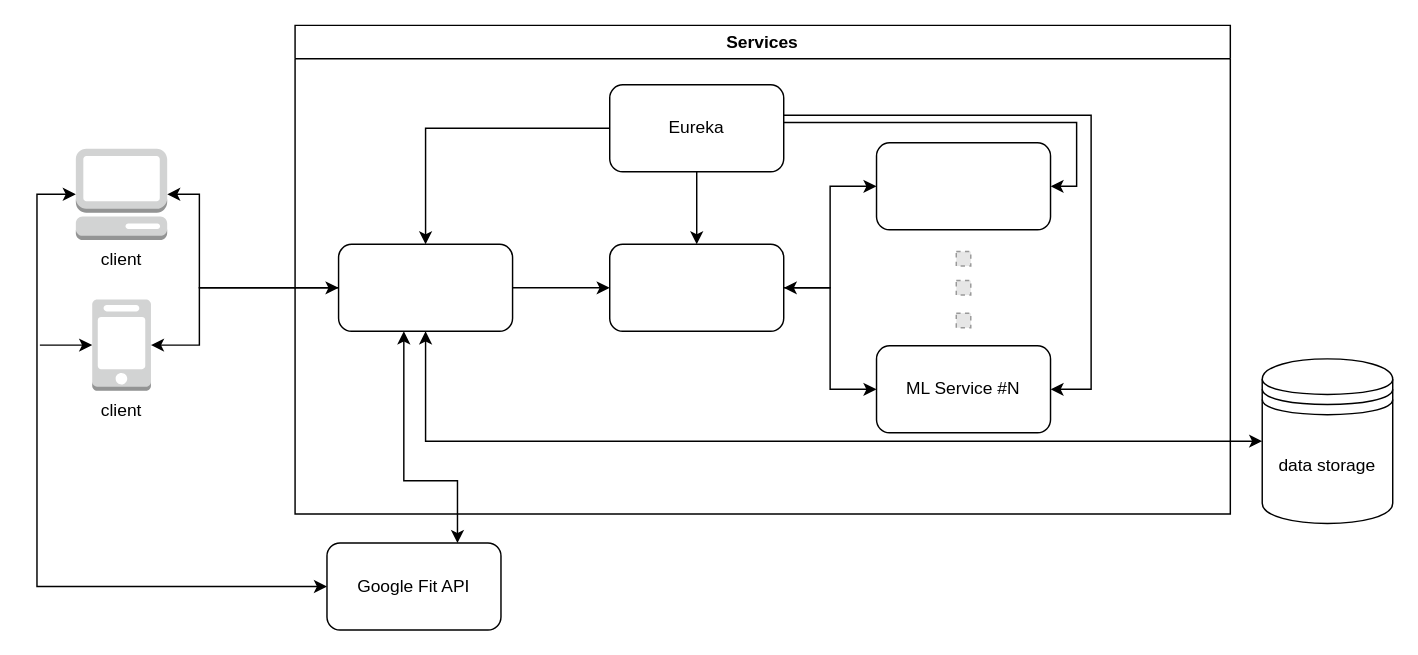
Image size: 1418x655. Some labels were removed from this diagram. Grey dashed boxes stand in for pictures. Each missing label, with the centre of its shape:
"Gateway" goes at [696,287].
"Heart rate service" goes at [425,287].
"ML Service #1" goes at [963,185].
